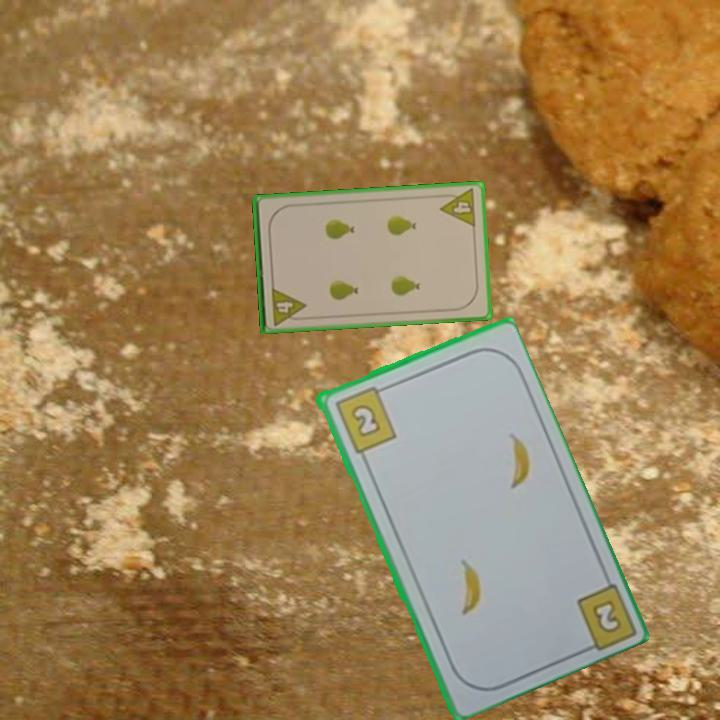2b: (331, 382, 399, 456), (588, 596, 624, 636)
4p: (436, 185, 479, 230), (268, 284, 309, 328)
